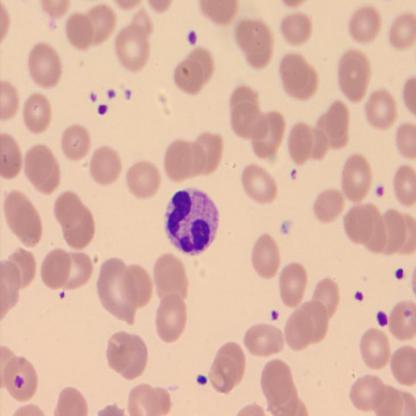Segmented neutrophil: (162, 185, 220, 256)
